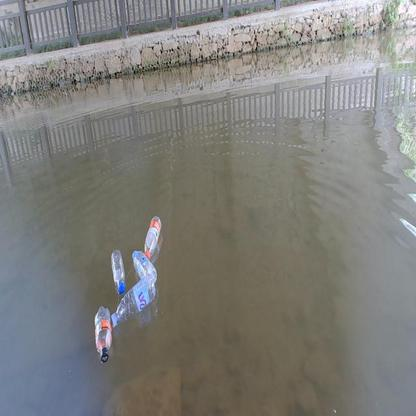plastic bottle: (111, 277, 158, 327), (94, 305, 113, 363), (131, 250, 160, 285), (144, 215, 164, 258), (110, 249, 128, 294)
